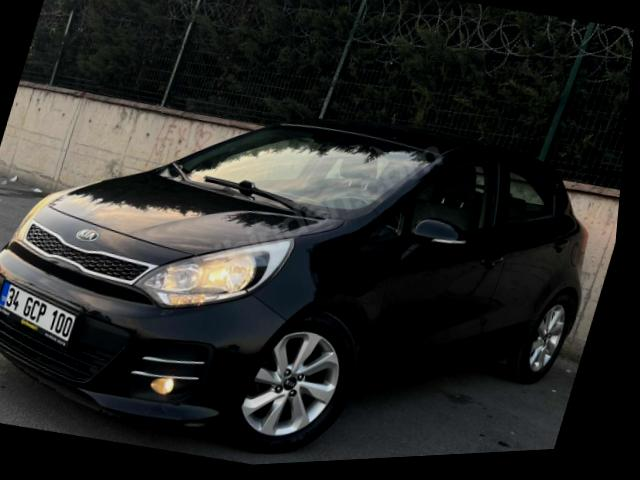plaka: (0, 281, 75, 342)
